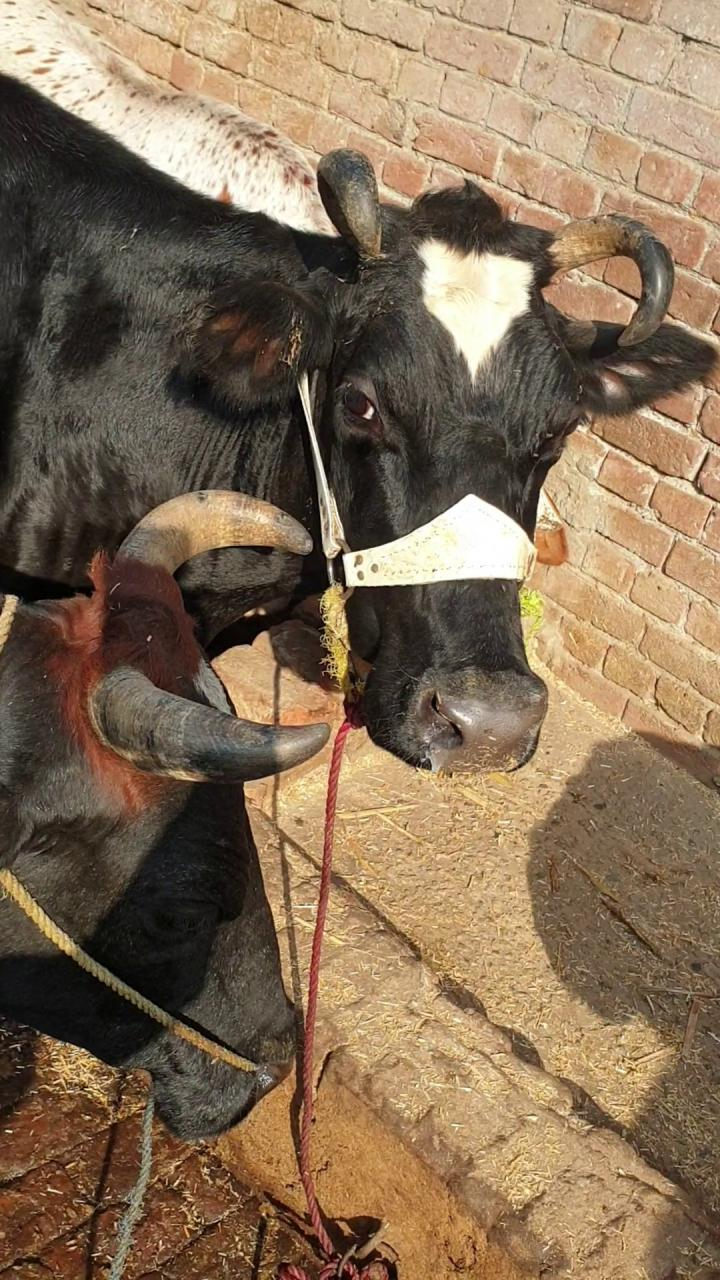cows: (75, 557, 343, 1200), (353, 173, 585, 775)
